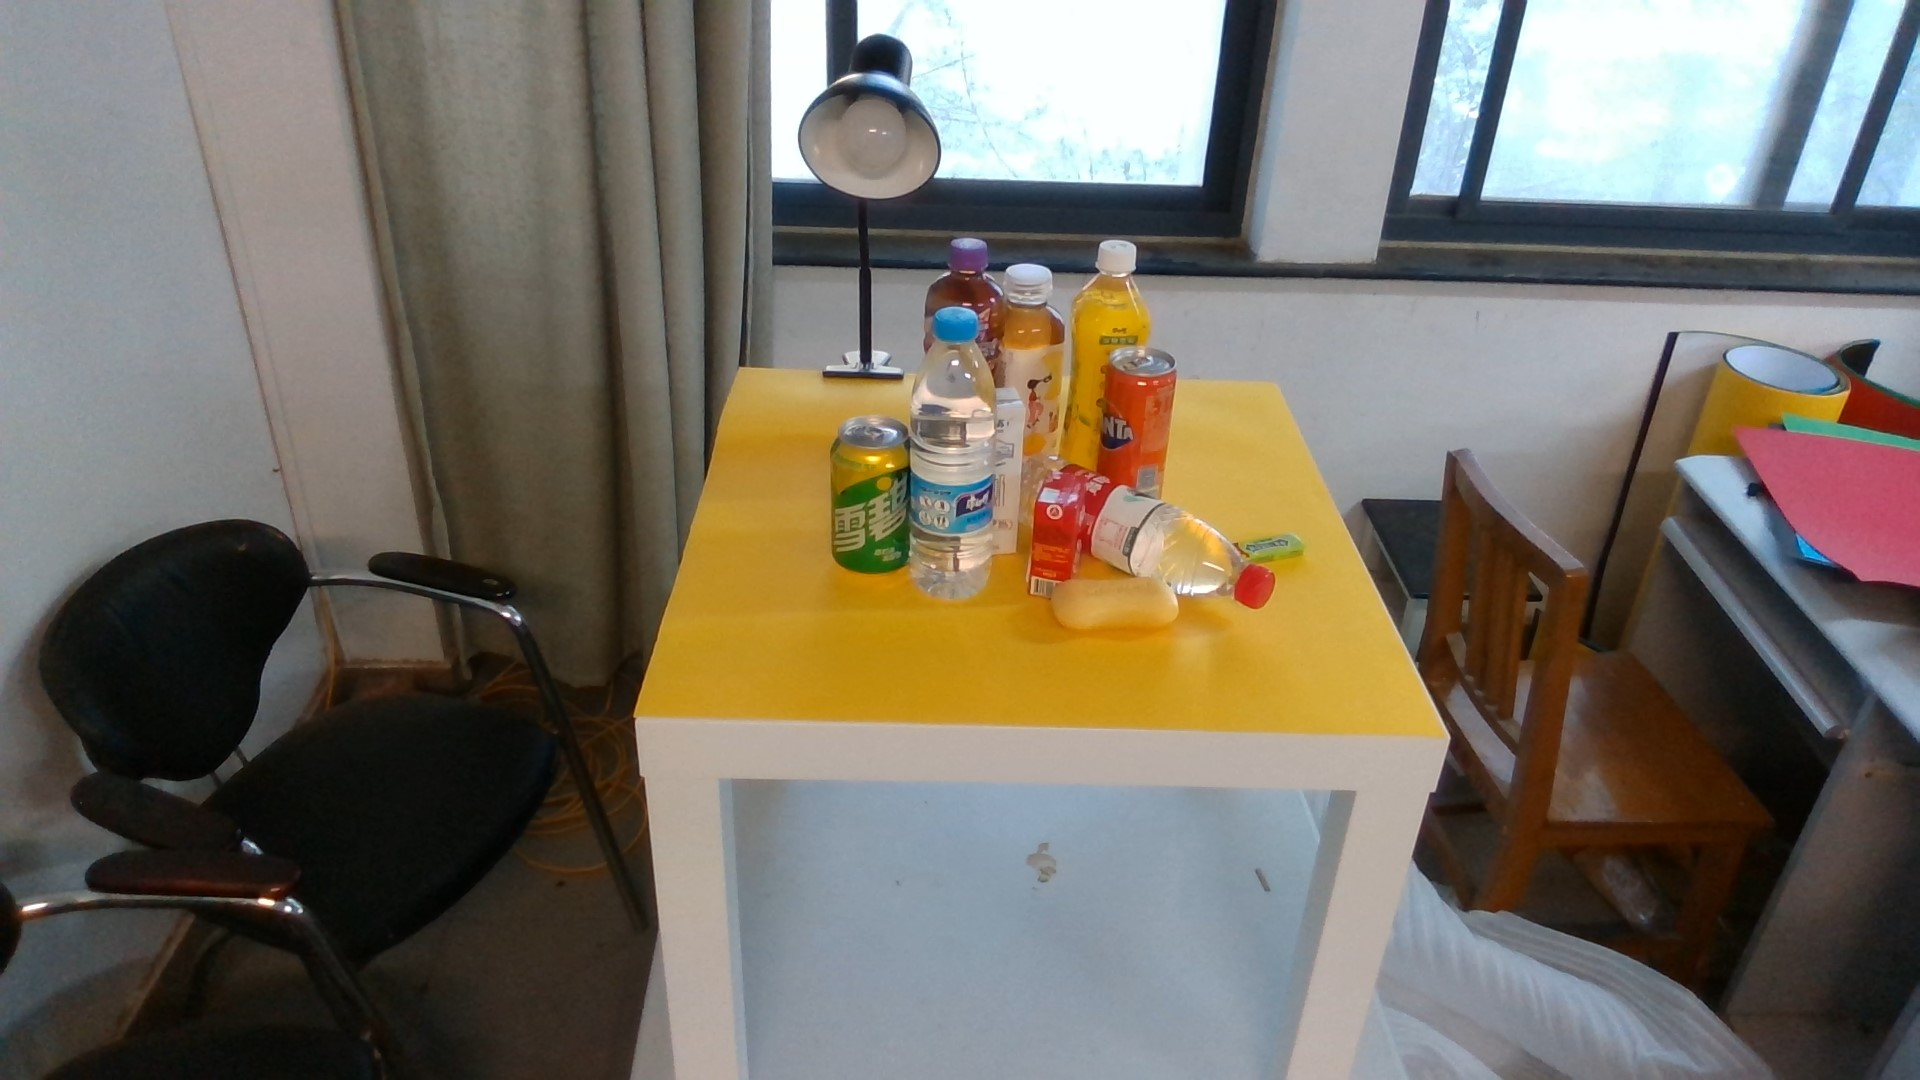BB002: (1237, 531, 1302, 564)
BB003: (1052, 580, 1179, 632)
BB010: (998, 388, 1025, 555)
BB012: (1029, 483, 1087, 578)
ZC001: (833, 415, 907, 574)
ZC003: (1101, 349, 1176, 473)
ZC009: (926, 237, 1002, 305)
ZC011: (1072, 239, 1154, 348)
ZC012: (1004, 262, 1065, 392)
ZC014: (1088, 477, 1238, 578)
ZC019: (909, 305, 1000, 597)
